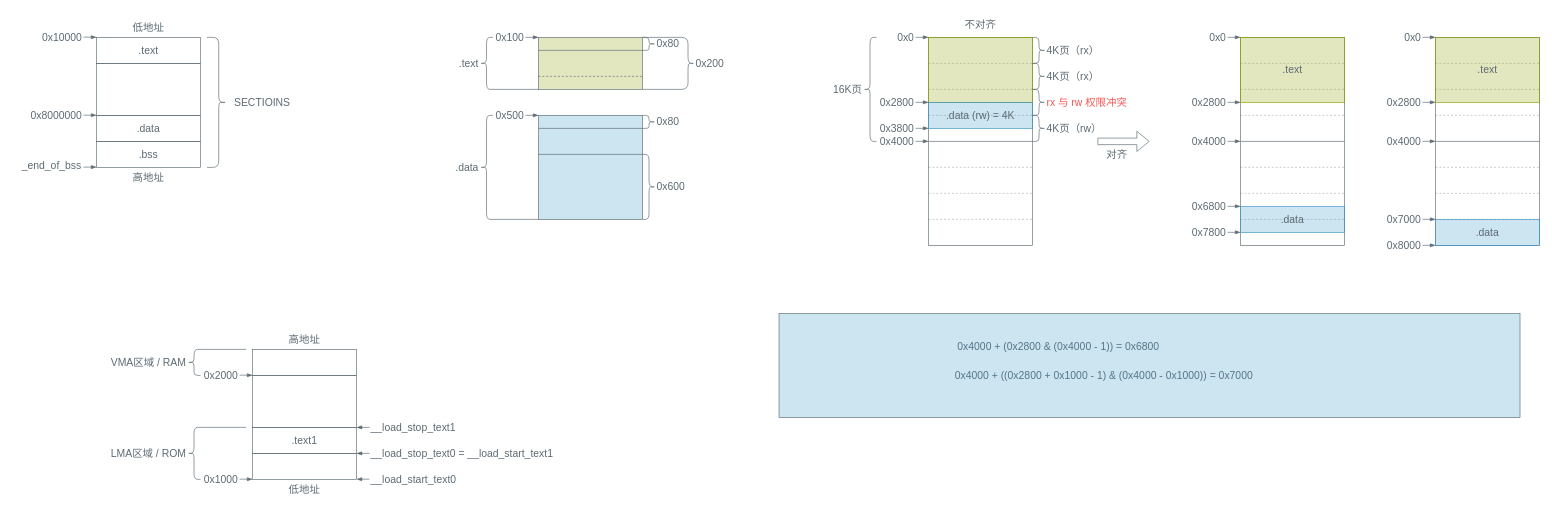
The diagram is 1552 pixels wide and 510 high, and some of its shapes have lost their labels. The centre of each missing label's shape, as x and y in pixels:
*(.data): pixel 590 167
*(.text): pixel 590 63
.text (rx) = 10K: pixel 980 69
.text0: pixel 304 466
OVERLAY 区域: pixel 304 362
